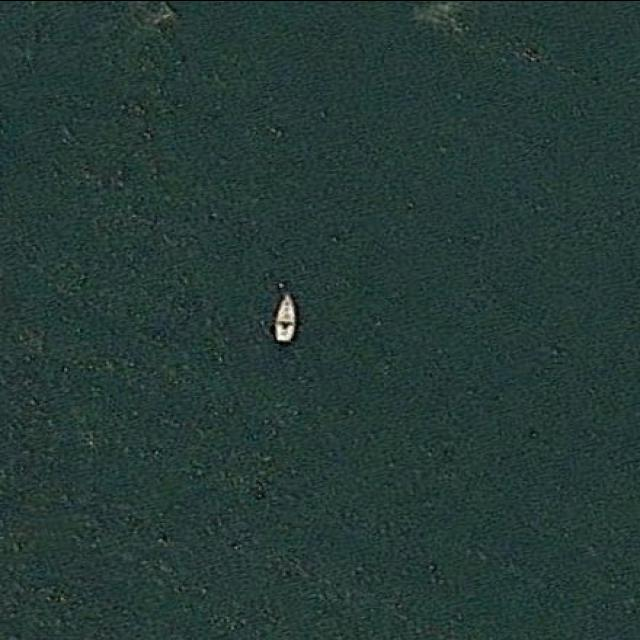ship: (270, 290, 300, 344)
